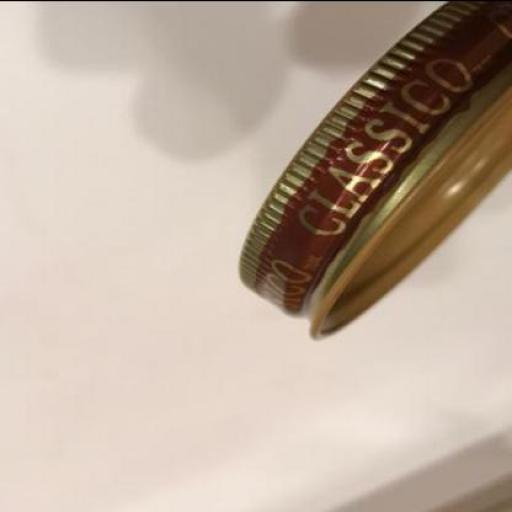metal: (235, 1, 511, 340)
